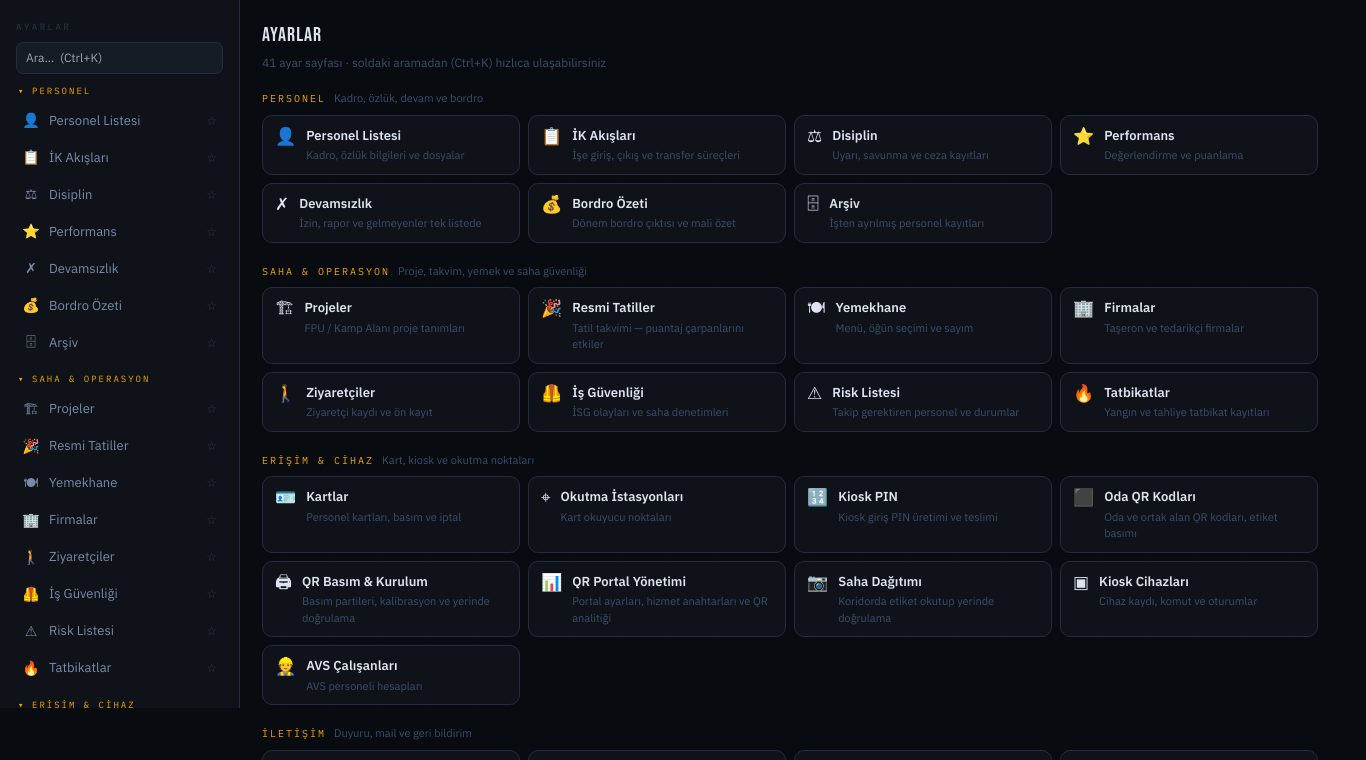
Test case: arama › eş anlamlı kelimeden bulur
In the search field named "Ayarlarda ara": (120, 58) [16,42,223,74], type "smtp"
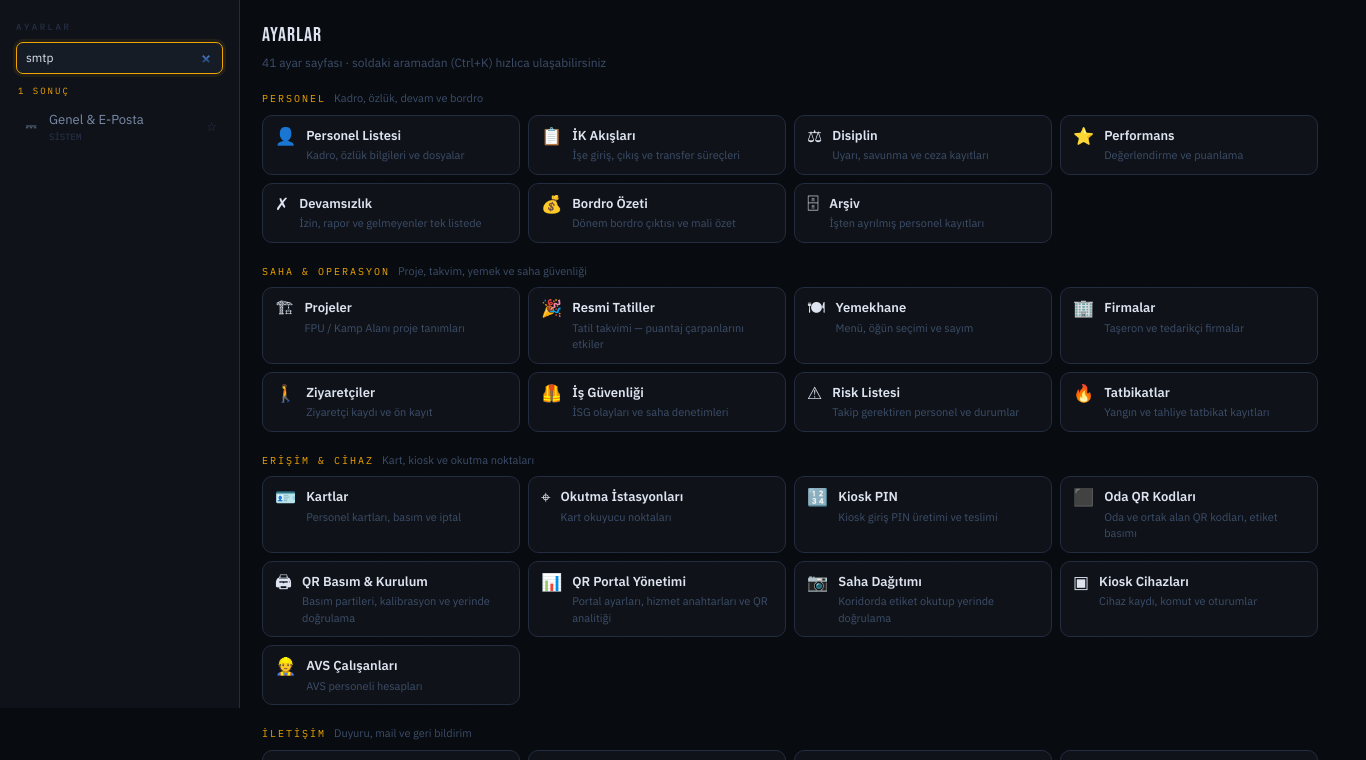
Expected: the text "1 SONUÇ" is shown, [18,84,70,96]
Expected: the text "Genel & E-Posta" is shown, [49,111,144,128]
